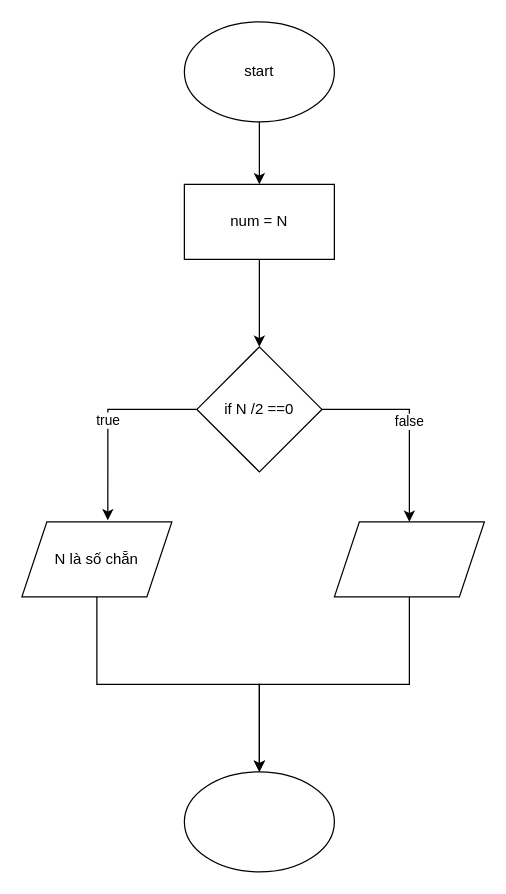
Image size: 506x894. Some labels were removed from this diagram. Each missing label, with the centre of its shape:
"end" belongs at [258,821].
"N là số lẽ" belongs at [408,559].
